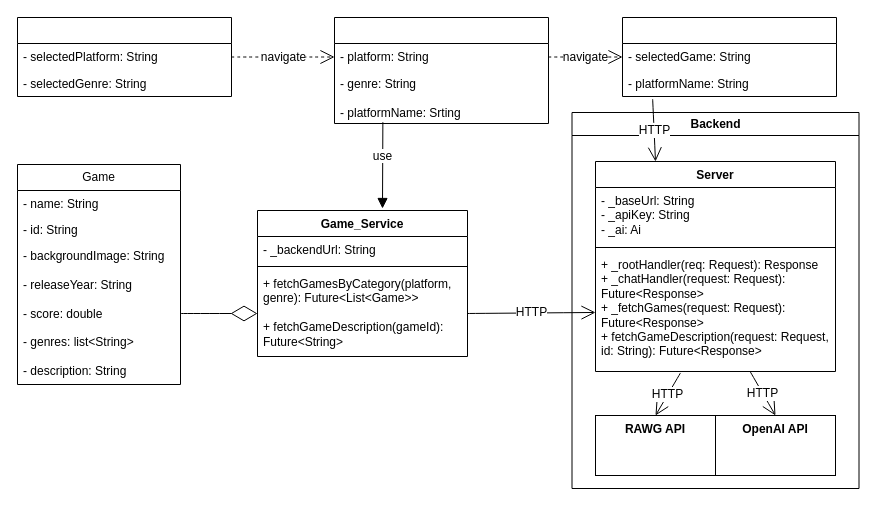
This 877x506 diagram has some shape labels left out. Each missing label, with the box of its shape:
GamePage: (334, 16, 548, 124)
GeniePage: (622, 16, 836, 96)
SelectionPage: (16, 16, 232, 96)
